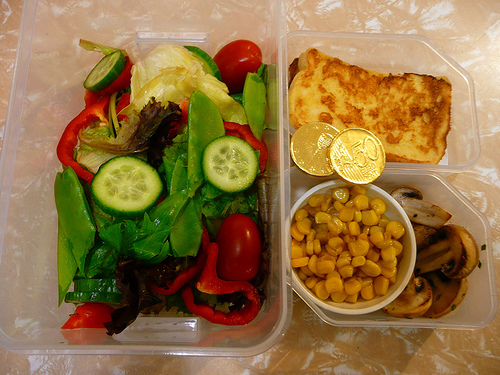corn: (287, 184, 406, 307)
